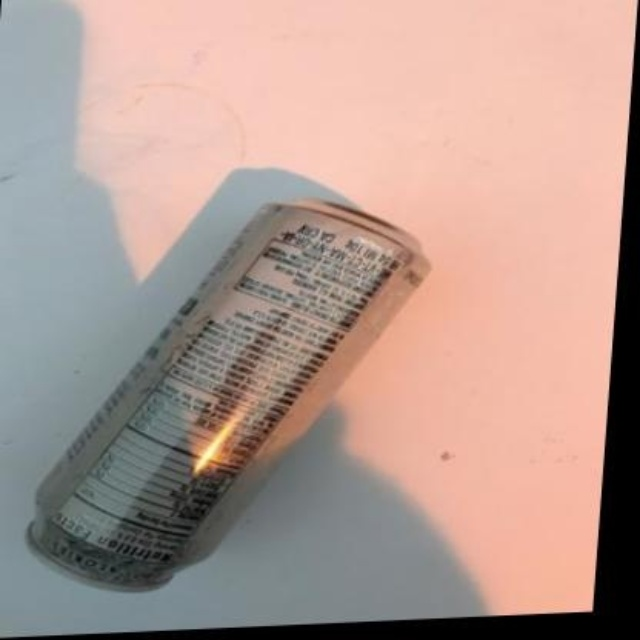trash: (29, 200, 428, 589)
